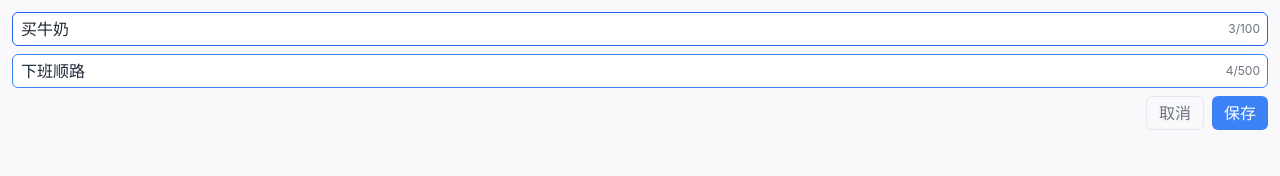
it: TaskItemEdit › blocks save and shows error when title is empty
Clear the field showing "买牛奶" at (640, 29), box [12,12,1268,46]
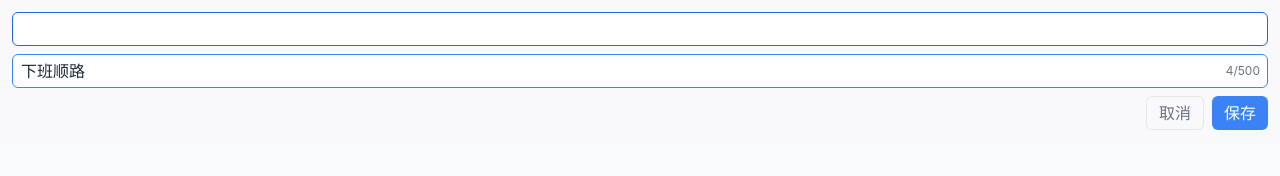
Click the button "保存" at (1240, 113), box [1212,96,1268,130]
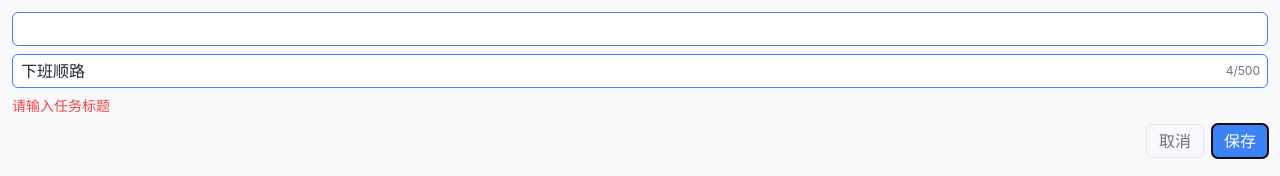
Check: the text "请输入任务标题" is shown, box [12,97,110,114]
